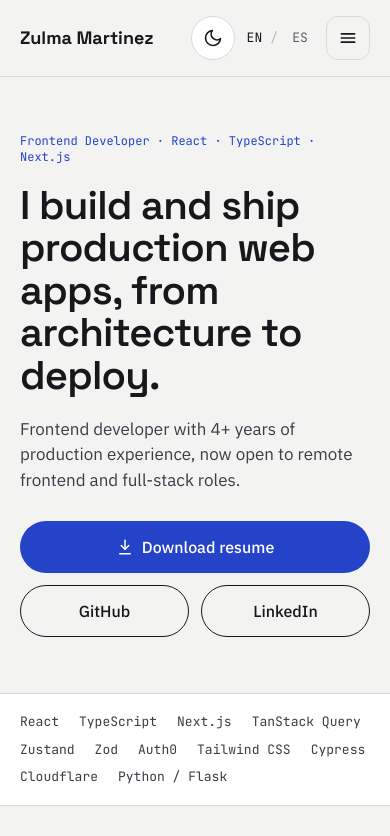
Test: sticky header › stops mobile menu links below the header
Expected: the button named "Switch to dark mode" is shown, [191,16,235,60]
Click the button named "Open menu" at (348, 38), box [326,16,370,60]
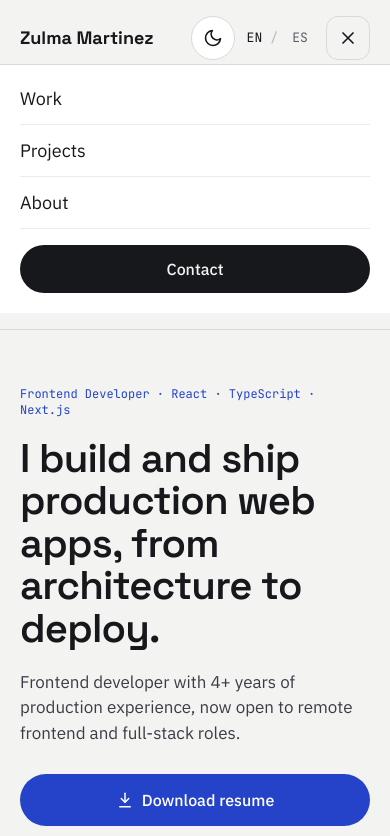
Scroll
Click the link to "#projects" at (53, 150), box [20,125,370,177]
(page scrolled)
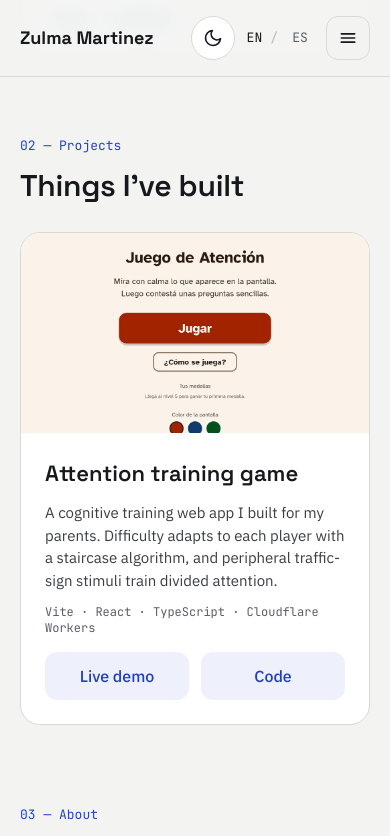
Now the element with class "menu-panel" is gone
